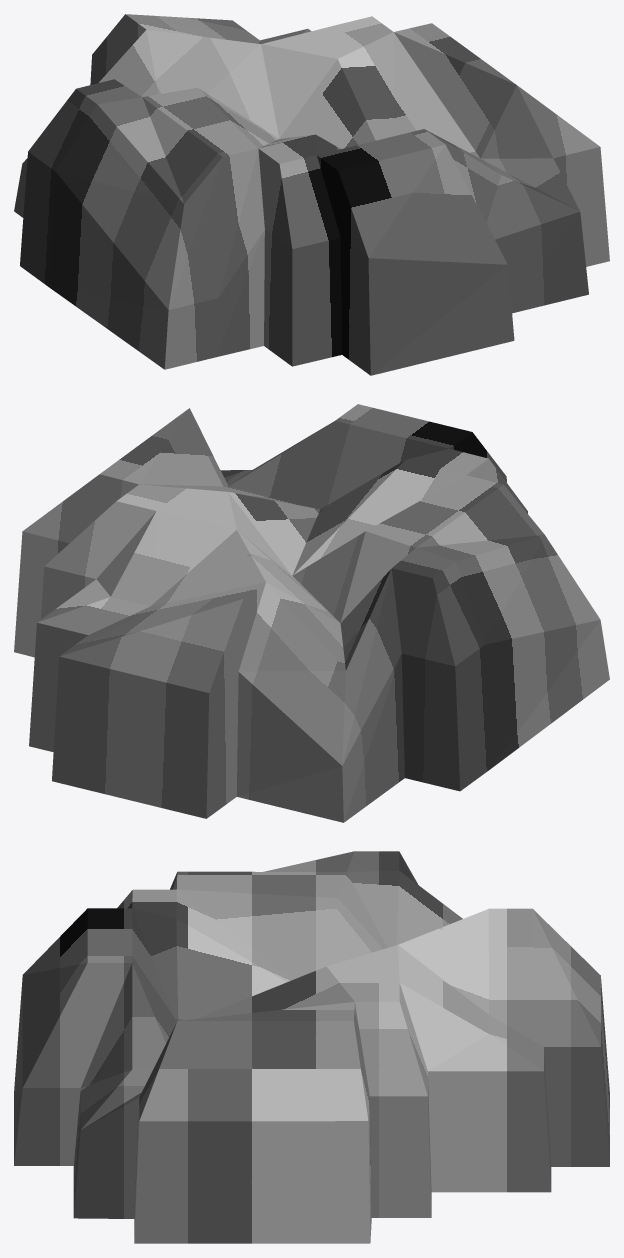
Rendered from Rock_331x07.gltf.
3 views of the same model, one above another, from view 1: azimuth 30°, elevation 25°; view 2: azimuth 150°, elevation 25°; view 3: azimuth 270°, elevation 25° (orthographic). The views are drawn at different scales.
Parts seen in each view (by area): view 1: Rock_331x07; view 2: Rock_331x07; view 3: Rock_331x07.
Boxes of the visible parts, x1,y1,x2,y2 form: Rock_331x07: (14, 14, 609, 375); Rock_331x07: (14, 404, 609, 822); Rock_331x07: (14, 851, 609, 1243).
Size of the model in its own units: 0.4886 by 0.1862 by 0.541.
Materials: 1 (1 with a texture image).
